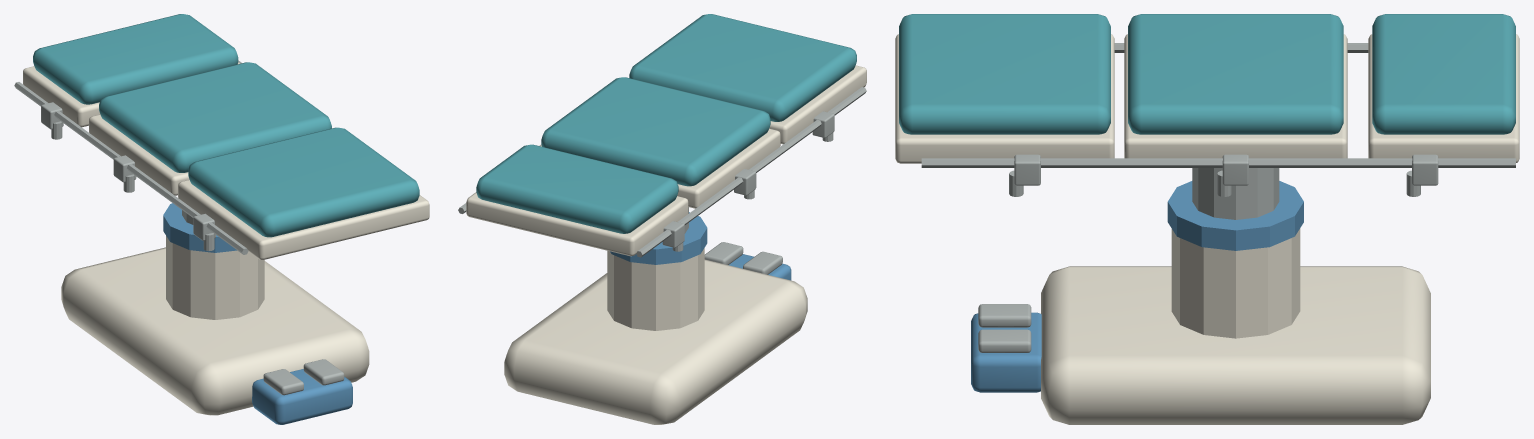
File: operating_table_standard.glb
3 views of the same model, side by side, from view 1: azimuth 30°, elevation 25°; view 2: azimuth 150°, elevation 25°; view 3: azimuth 270°, elevation 25° (orthographic). The views are drawn at different scales.
Visible parts, largest first — view 1: STATIC_operating_table_standard, MOVING_PIVOT_table_section_0.001, MOVING_PIVOT_table_section_1.001, MOVING_PIVOT_table_section_2.001; view 2: STATIC_operating_table_standard, MOVING_PIVOT_table_section_1.001, MOVING_PIVOT_table_section_0.001, MOVING_PIVOT_table_section_2.001; view 3: STATIC_operating_table_standard, MOVING_PIVOT_table_section_1.001, MOVING_PIVOT_table_section_0.001, MOVING_PIVOT_table_section_2.001.
Boxes of the visible parts, x1=… form: STATIC_operating_table_standard: x1=14, y1=60, x2=369, y2=424; MOVING_PIVOT_table_section_0.001: x1=178, y1=127, x2=429, y2=259; MOVING_PIVOT_table_section_1.001: x1=89, y1=62, x2=331, y2=195; MOVING_PIVOT_table_section_2.001: x1=23, y1=14, x2=239, y2=127; STATIC_operating_table_standard: x1=458, y1=87, x2=866, y2=424; MOVING_PIVOT_table_section_1.001: x1=539, y1=77, x2=780, y2=208; MOVING_PIVOT_table_section_0.001: x1=629, y1=14, x2=866, y2=144; MOVING_PIVOT_table_section_2.001: x1=466, y1=144, x2=688, y2=256; STATIC_operating_table_standard: x1=921, y1=43, x2=1515, y2=424; MOVING_PIVOT_table_section_1.001: x1=1124, y1=14, x2=1347, y2=158; MOVING_PIVOT_table_section_0.001: x1=895, y1=14, x2=1114, y2=163; MOVING_PIVOT_table_section_2.001: x1=1368, y1=14, x2=1519, y2=162.
Size of the model in its own units: 0.775 by 0.935 by 1.65.
